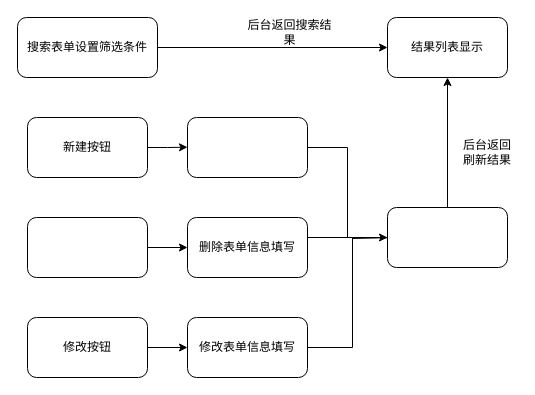
This 535x395 diagram has some shape labels left out. The box of each missing label's shape, as (x1, y1, x2, y2) in pixels:
删除按钮: (26, 216, 148, 278)
刷新: (386, 206, 508, 268)
新建表单信息填写: (186, 116, 308, 178)
